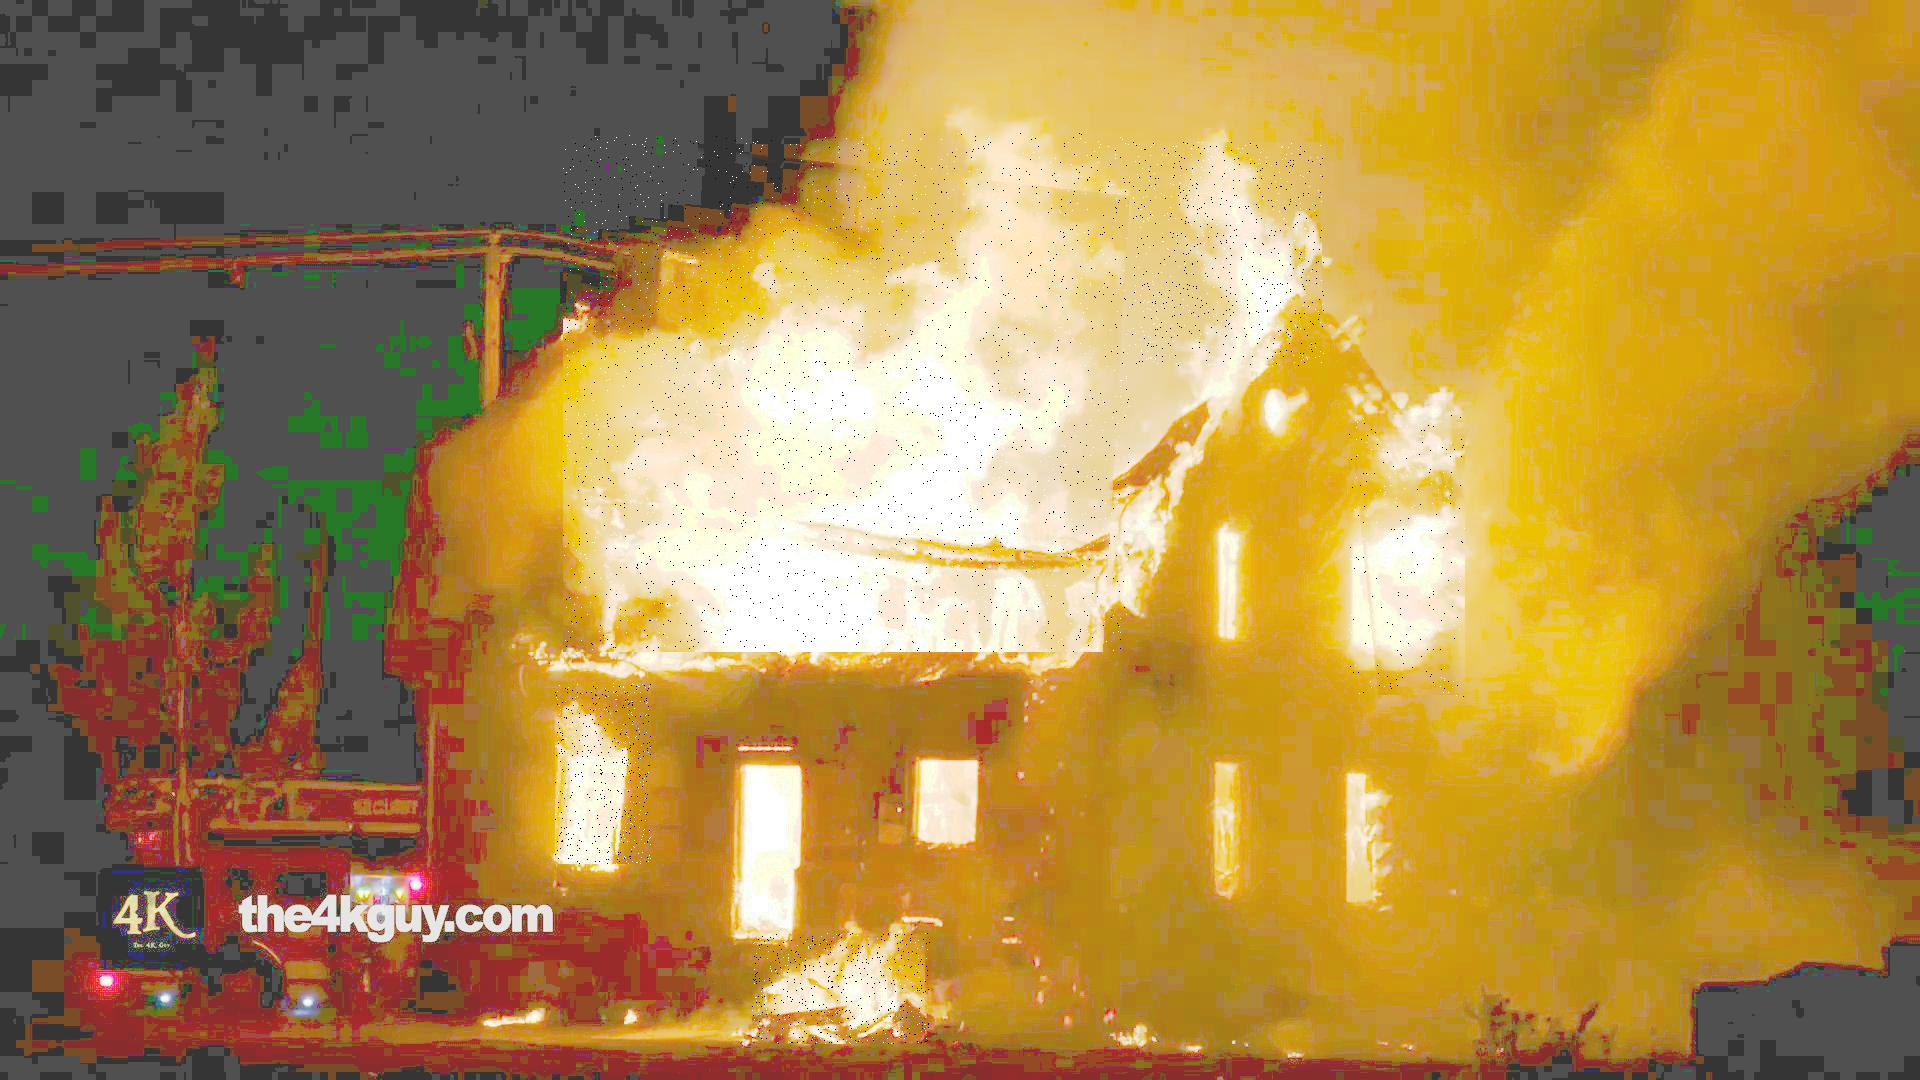fire: (563, 133, 1130, 653), (1133, 142, 1325, 367), (1349, 415, 1465, 698), (753, 934, 931, 1044), (555, 683, 651, 864)
